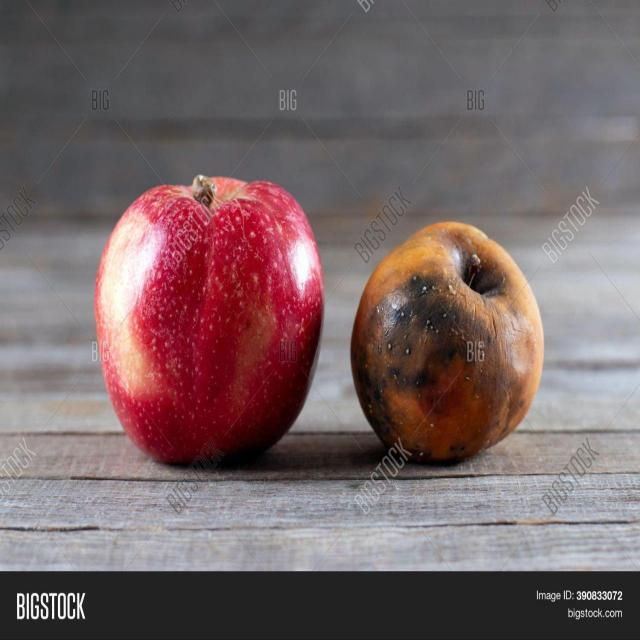apple: (74, 146, 335, 487)
rotten apple: (344, 186, 563, 487)
